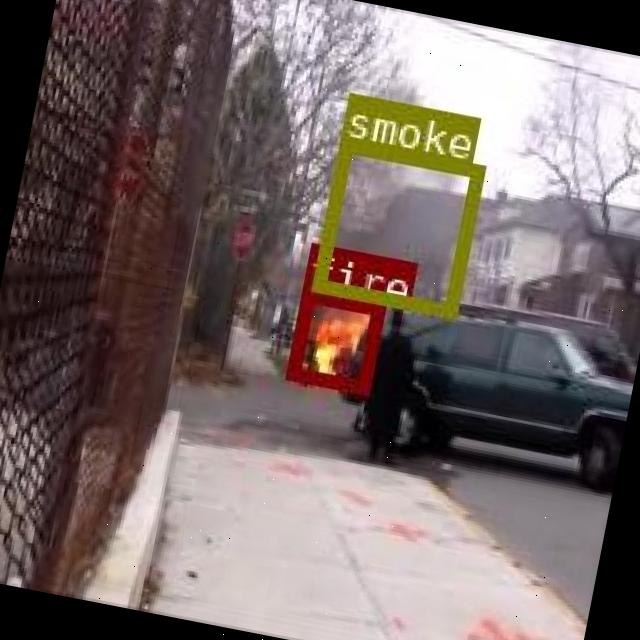fire: (284, 285, 383, 391)
smoke: (312, 137, 483, 316)
